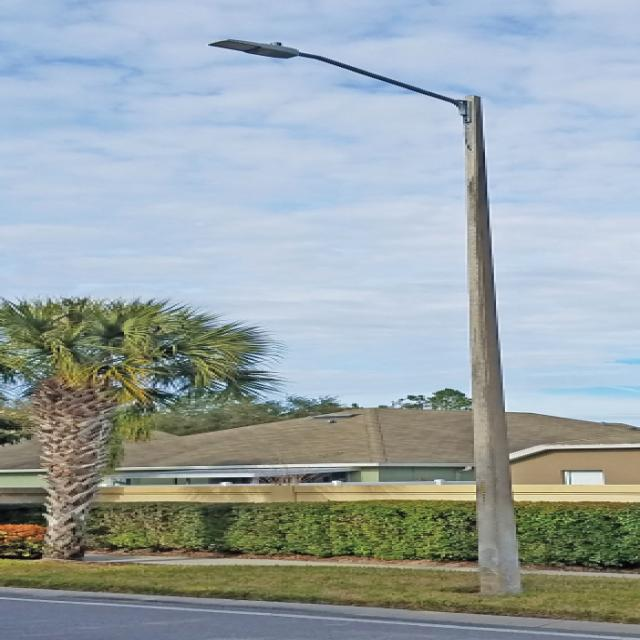Electric pole: (208, 39, 523, 596)
